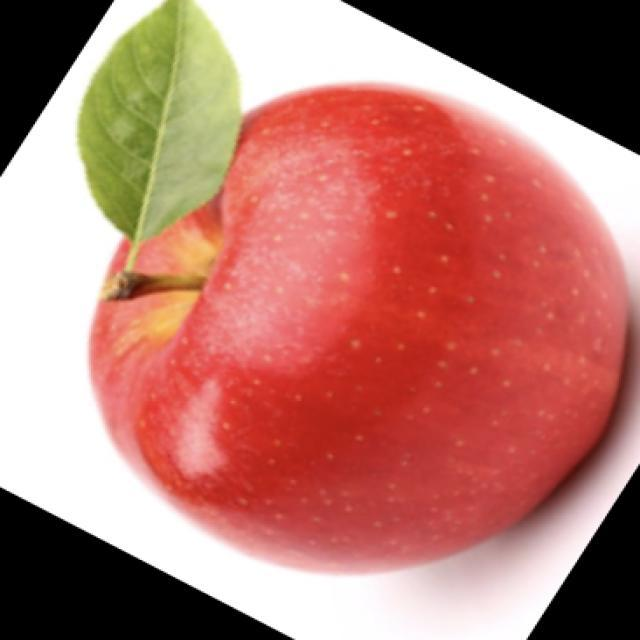Fresh Apple: (103, 101, 640, 558)
